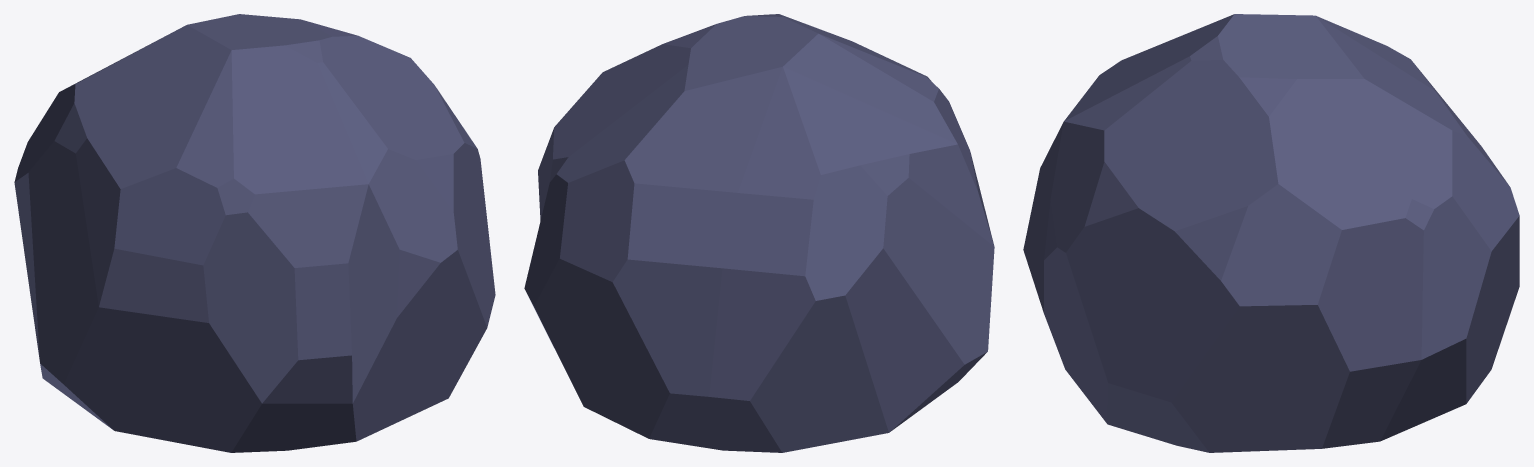
Rendered from Rock3.fbx.
3 renders of one model, left to right at view 1: azimuth 30°, elevation 25°; view 2: azimuth 150°, elevation 25°; view 3: azimuth 270°, elevation 25°, orthographic. The views are drawn at different scales.
Parts seen in each view (by area): view 1: Icosphere; view 2: Icosphere; view 3: Icosphere.
Boxes of the visible parts, x1,y1,x2,y2 form: Icosphere: (14, 14, 495, 452); Icosphere: (524, 14, 994, 452); Icosphere: (1023, 14, 1519, 452).
Size of the model in its own units: 174 by 153 by 178.
